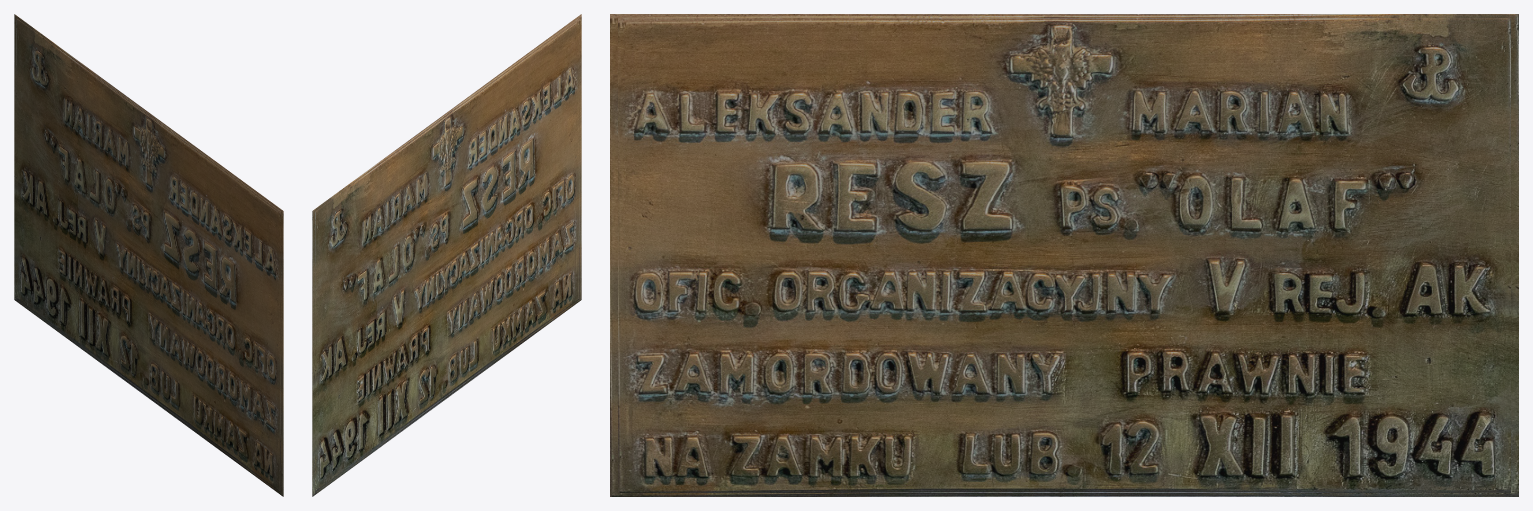
File: 15. ALEKSANDER  MARIAN RESZ ps.”OLAF”.glb
3 renders of one model, left to right at view 1: azimuth 30°, elevation 25°; view 2: azimuth 150°, elevation 25°; view 3: azimuth 270°, elevation 25°, orthographic. The views are drawn at different scales.
Parts seen in each view (by area): view 1: Plane; view 2: Plane; view 3: Plane.
Boxes of the visible parts, left/top/right/bottom form: Plane: left=14, top=14, right=283, bottom=496; Plane: left=312, top=14, right=581, bottom=496; Plane: left=610, top=14, right=1518, bottom=496.
Bounding box in the file's own units: 0.0246 × 9.2 × 15.7.
1 material, 1 textured.
